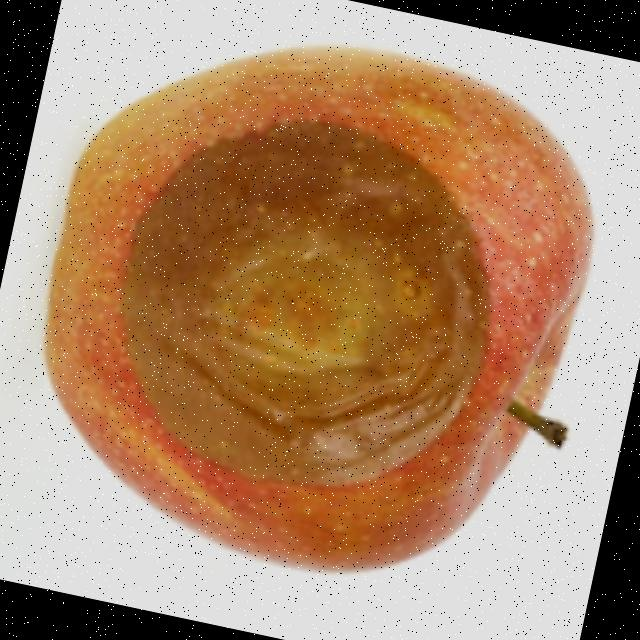Rotten: (0, 0, 633, 616)
